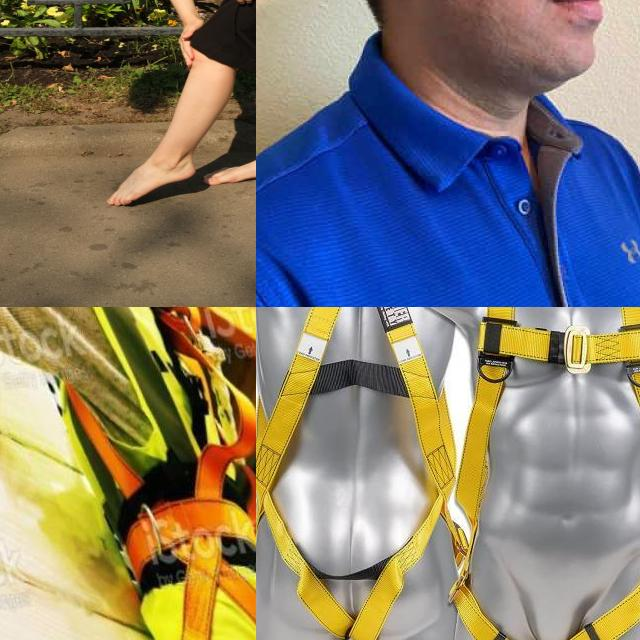Barefoots: (107, 158, 196, 206), (203, 158, 256, 185)
Harness: (256, 307, 455, 640), (452, 307, 640, 640), (69, 390, 256, 640)
